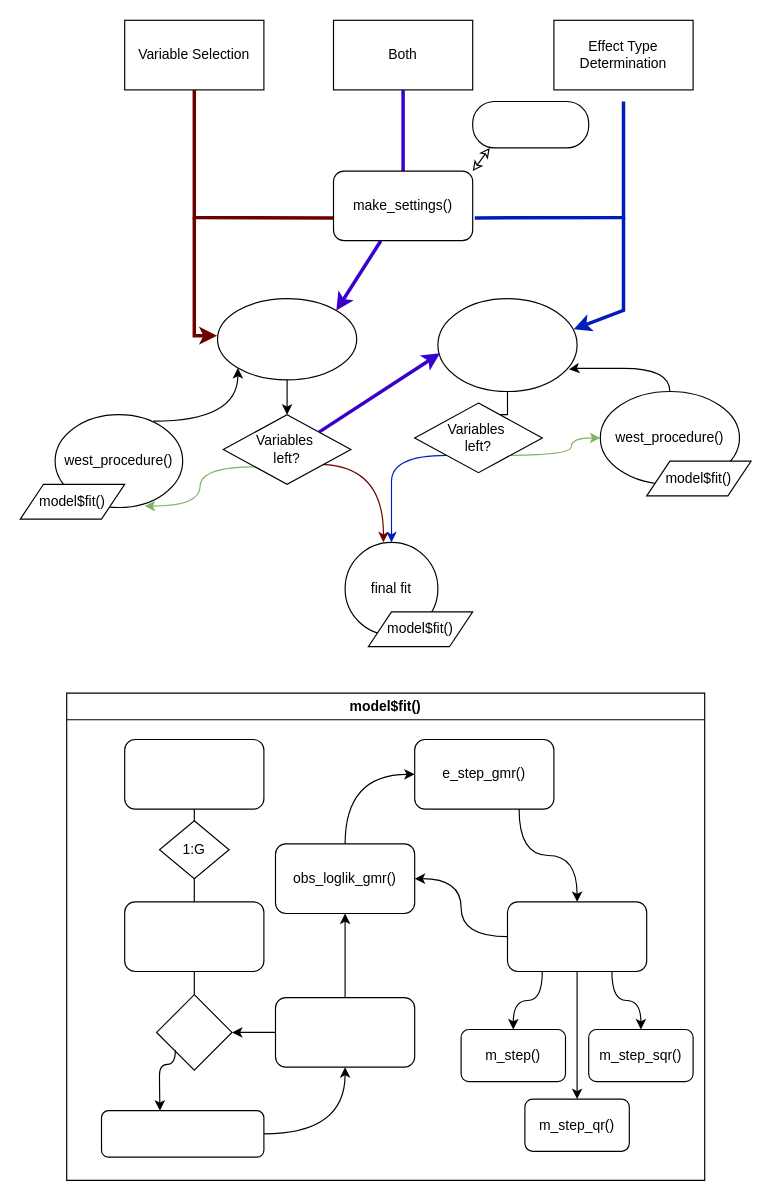
Image size: 771x1201. Some labels were removed from this diagram. Here are the shapes that lost their labels. From the top down, the centre of each, then its label:
At (530,124): "Model".
At (286,339): "select_variables()".
At (507,345): "determine_effects()".
At (194,773): "fit_gmr()".
At (194,936): "fit_gmr_fixed()".
At (576,936): "m_step".
At (193,1032): "1:n_init".
At (344,1031): "em_gmr()".
At (182,1133): "initialize_parameters()".
